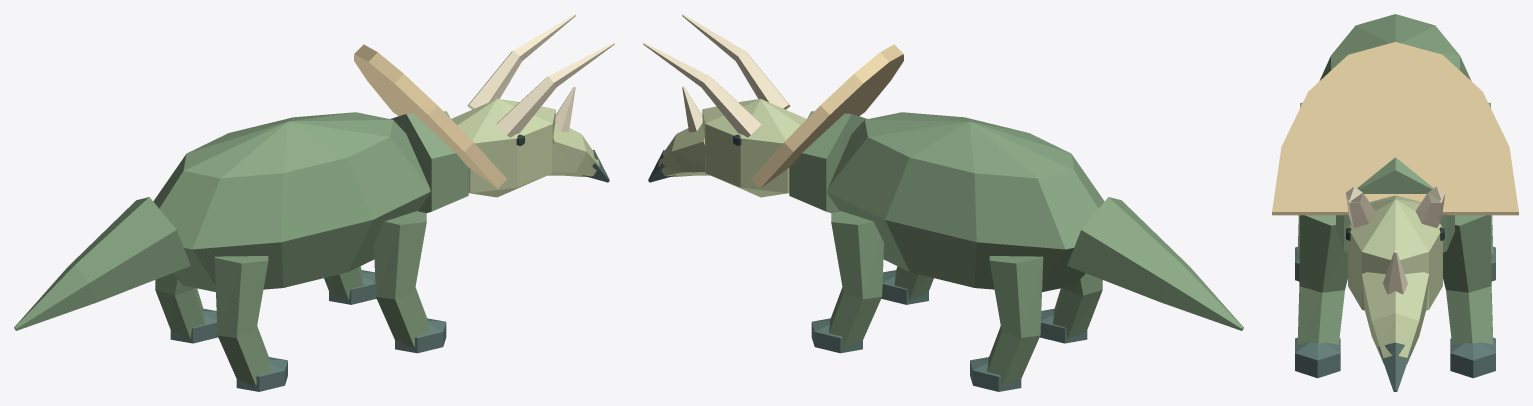
The model's file is triceratops-briggsdale-491005.e6af670f05ff.glb.
3 renders of one model, left to right at view 1: azimuth 30°, elevation 25°; view 2: azimuth 150°, elevation 25°; view 3: azimuth 270°, elevation 25°, orthographic. The views are drawn at different scales.
Parts seen in each view (by area): view 1: triceratops-briggsdale-491005; view 2: triceratops-briggsdale-491005; view 3: triceratops-briggsdale-491005.
Boxes of the visible parts, x1=… form: triceratops-briggsdale-491005: x1=14, y1=14, x2=614, y2=391; triceratops-briggsdale-491005: x1=643, y1=14, x2=1243, y2=391; triceratops-briggsdale-491005: x1=1272, y1=14, x2=1518, y2=391.
Size of the model in its own units: 1 by 0.4443 by 0.3058.
